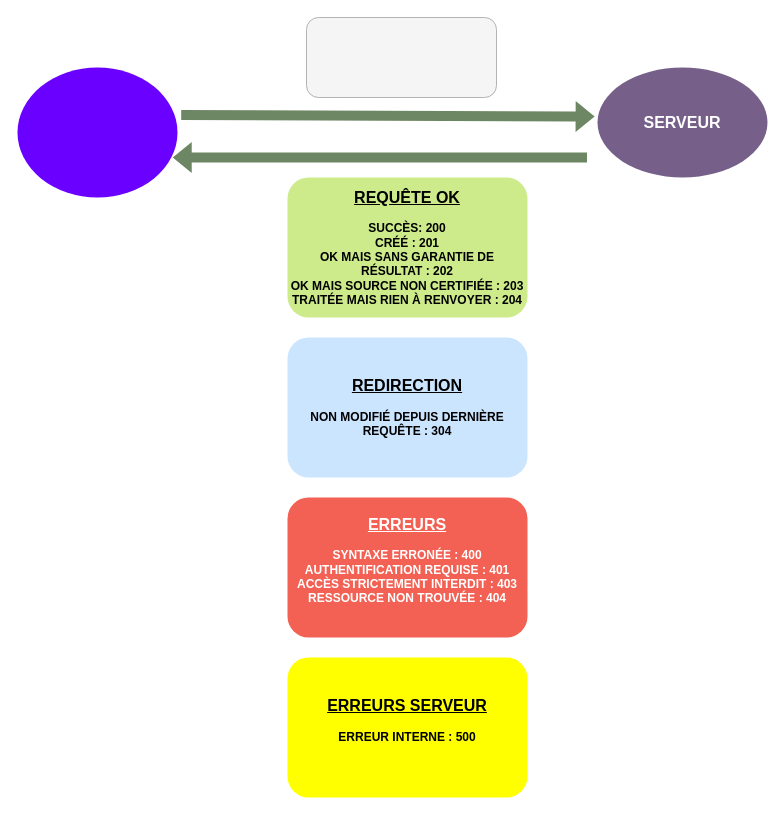
This 784x815 diagram has some shape labels left out. Each missing label, with the box of its shape:
CLIENT: (17, 67, 177, 197)
REQUÊTE HTTP (GET, PUT, POST, PATCH, DELETE): (306, 16, 496, 98)
